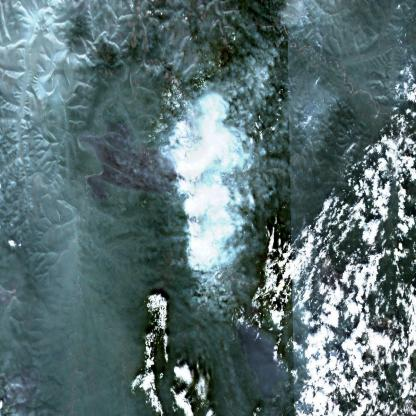fire: (157, 117, 204, 235)
